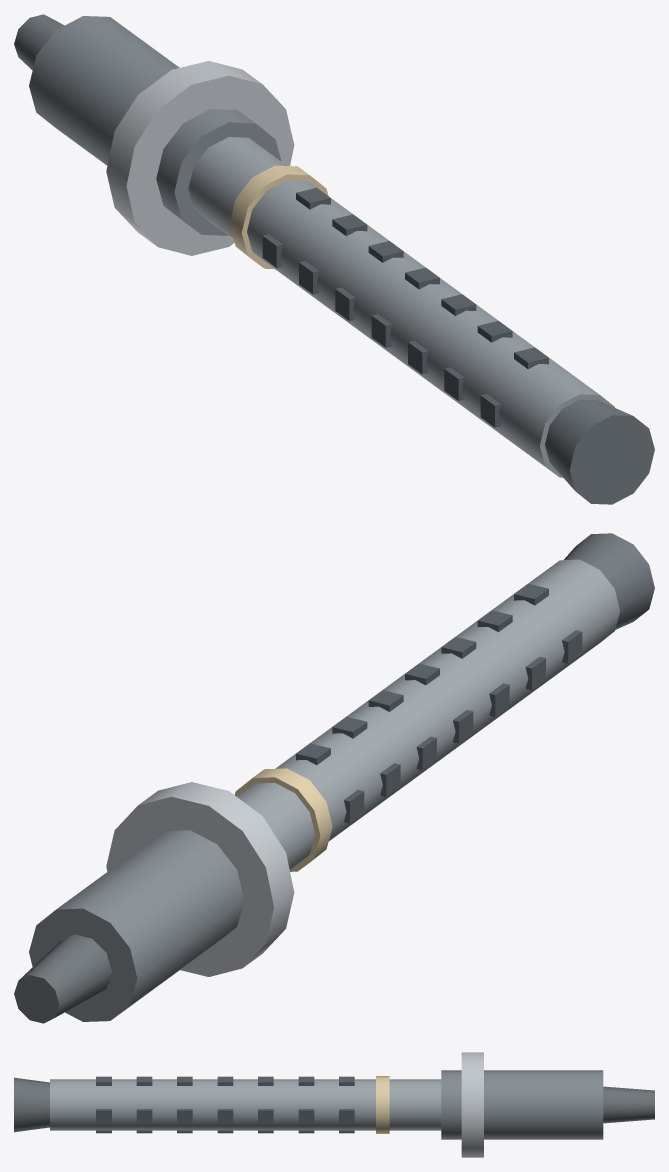
File: shotgun_mic.glb
3 views of the same model, one above another, from view 1: azimuth 30°, elevation 25°; view 2: azimuth 150°, elevation 25°; view 3: azimuth 270°, elevation 25° (orthographic). The views are drawn at different scales.
Visible parts, largest first — view 1: shotgun_mic; view 2: shotgun_mic; view 3: shotgun_mic.
Boxes of the visible parts, left/top/right/bottom form: shotgun_mic: left=14, top=14, right=654, bottom=504; shotgun_mic: left=14, top=533, right=654, bottom=1023; shotgun_mic: left=14, top=1052, right=654, bottom=1157.
Bounding box in the file's own units: 0.048 × 0.0468 × 0.285.
